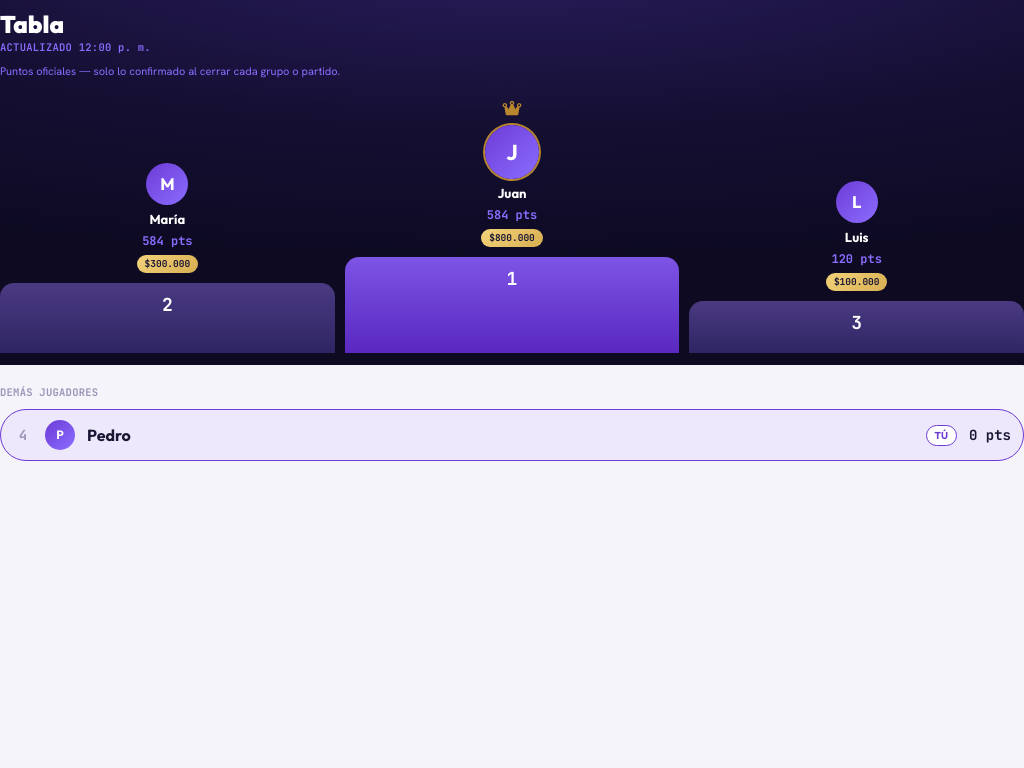
Test: Scoreboard › al tocar un jugador abre el detalle con su desglose por categoría
Click the button "J Juan 584 pts $800.000 1".
click(512, 226)  # box x1=345 y1=99 x2=679 y2=353
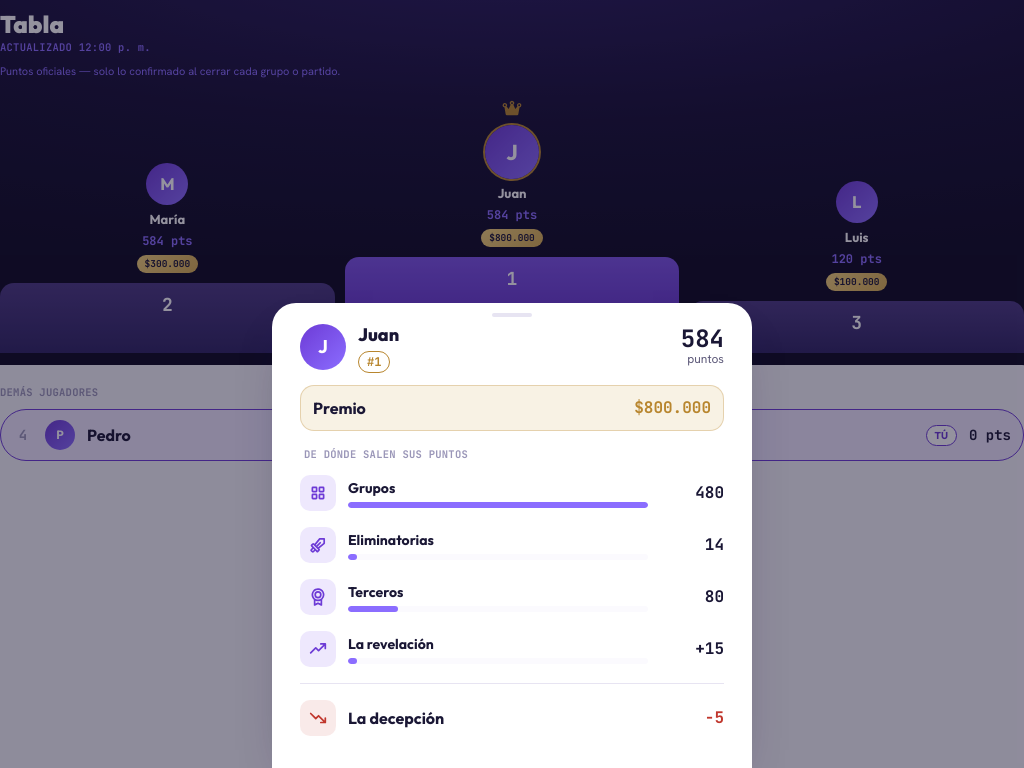
Expected: the text "584" is shown, x1=681 y1=327 x2=724 y2=351
Expected: the text "480" is shown, x1=695 y1=482 x2=724 y2=503
Expected: the text "14" is shown, x1=705 y1=534 x2=724 y2=555
